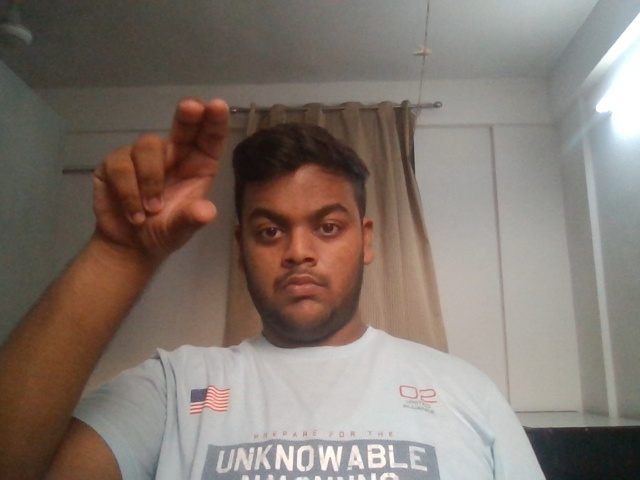No: (64, 88, 242, 278)
